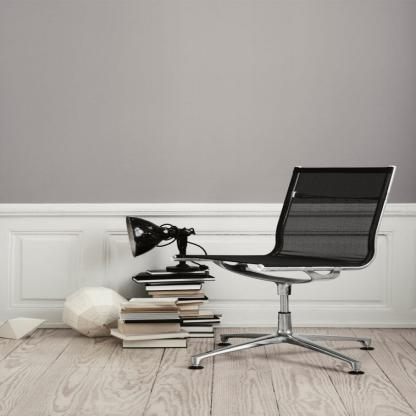chair: (169, 162, 401, 380)
light: (119, 215, 204, 275)
